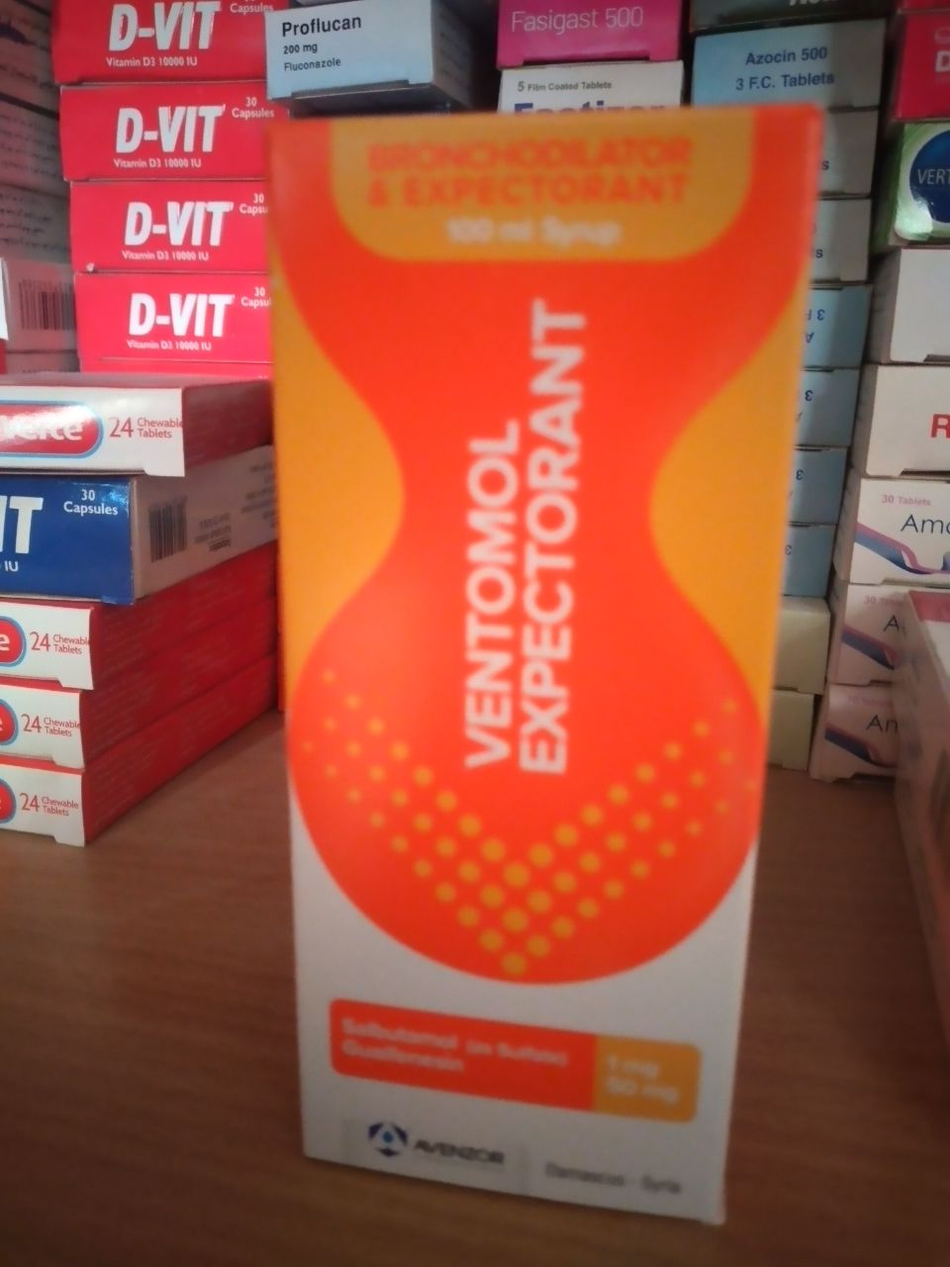Medicine: (244, 89, 844, 1260)
